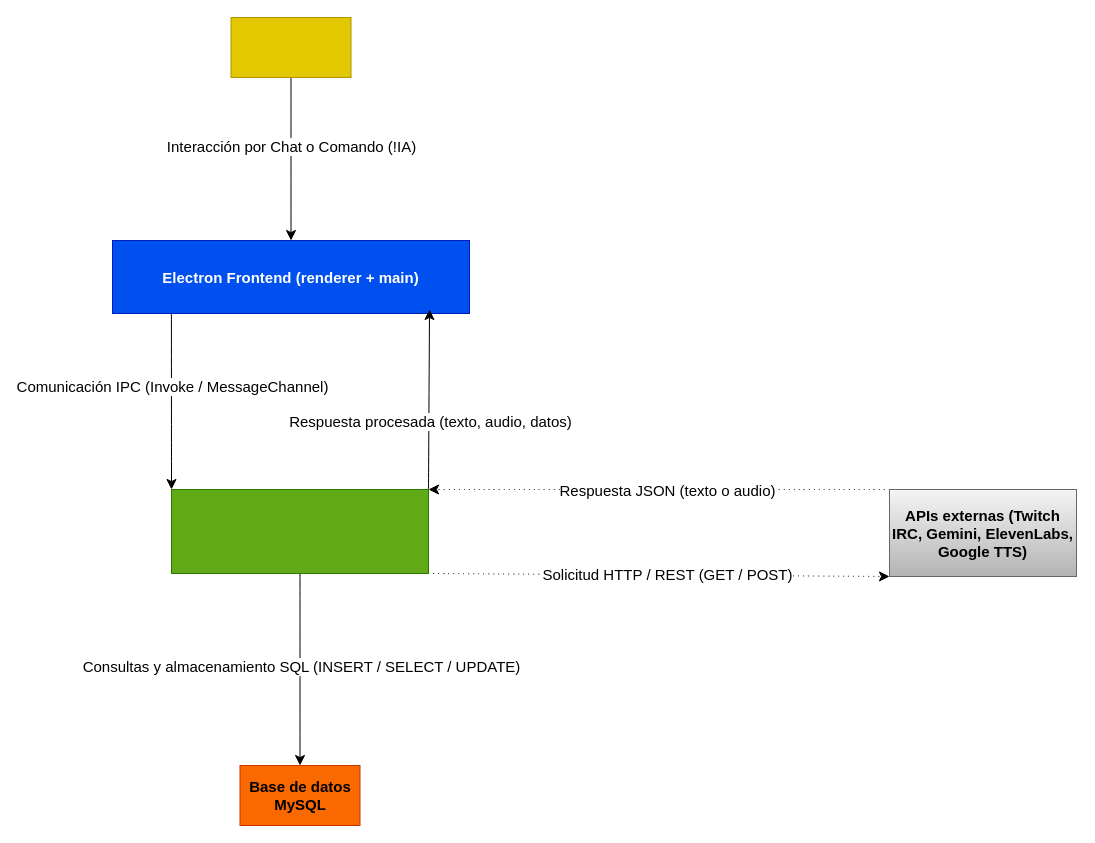
The diagram is 1095 pixels wide and 843 high, and some of its shapes have lost their labels. The shapes that lost their labels are listed below. From the top down, each one's centre as x and y in pixels, then its label:
At point 290,47: "Usuario / Twitch Chat".
At point 299,531: "Python Bot (chatbot.py)".
